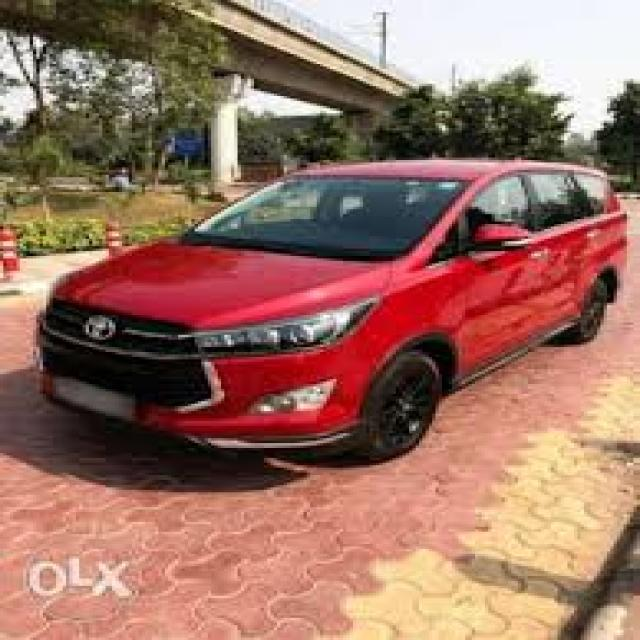light_vehicle: (37, 160, 629, 462)
